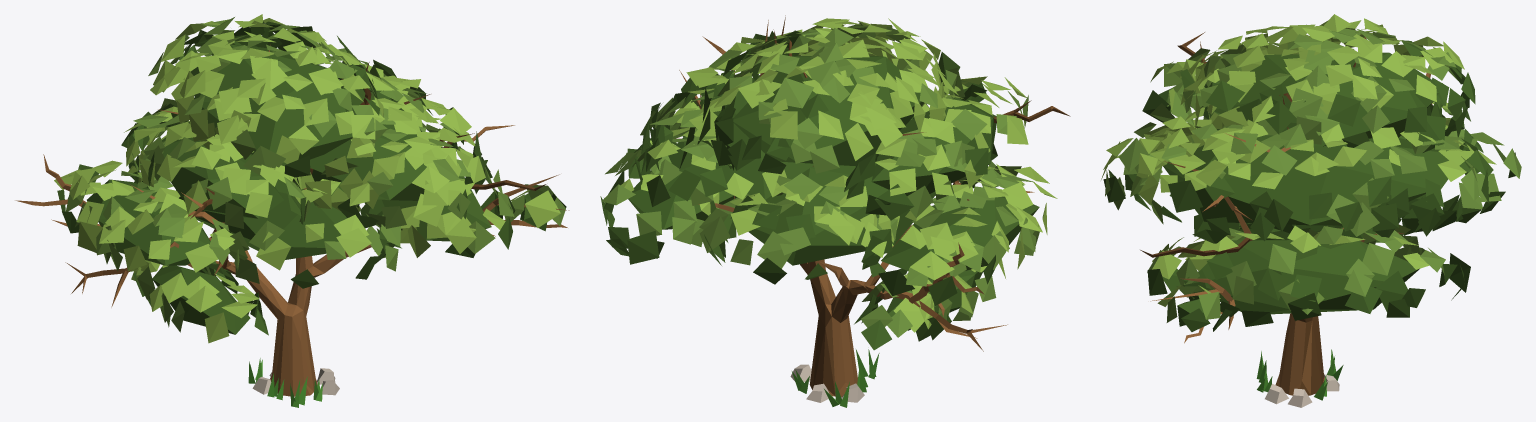
File: elm_1_bloom.glb
The picture shows the model from 3 angles, left to right: view 1: azimuth 30°, elevation 25°; view 2: azimuth 150°, elevation 25°; view 3: azimuth 270°, elevation 25°; orthographic projection. The views are drawn at different scales.
Visible parts, largest first — view 1: elm_1_bloom; view 2: elm_1_bloom; view 3: elm_1_bloom.
Boxes of the visible parts, left/top/right/bottom form: elm_1_bloom: left=15, top=14, right=569, bottom=407; elm_1_bloom: left=600, top=15, right=1070, bottom=407; elm_1_bloom: left=1101, top=14, right=1521, bottom=407.
Size of the model in its own units: 8.38 by 6.41 by 6.96.
